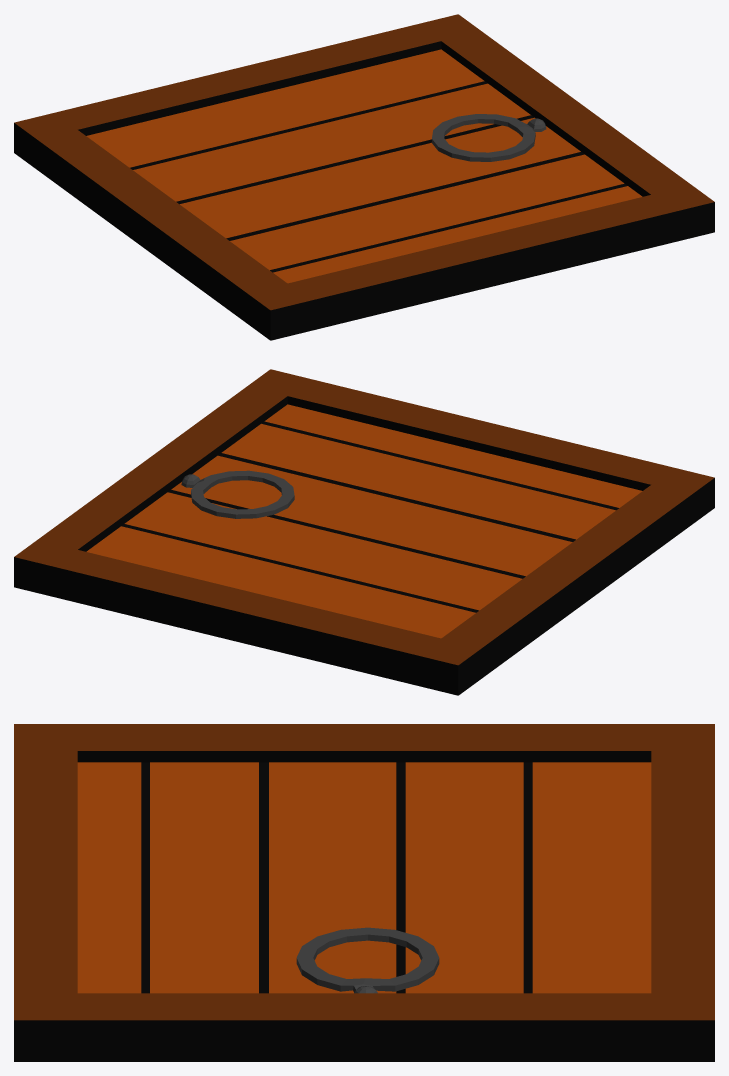
The model's file is TrapDoor.glb.
The picture shows the model from 3 angles, top to bottom: view 1: azimuth 30°, elevation 25°; view 2: azimuth 150°, elevation 25°; view 3: azimuth 270°, elevation 25°; orthographic projection. The views are drawn at different scales.
Parts seen in each view (by area): view 1: Plane; view 2: Plane; view 3: Plane.
Boxes of the visible parts, x1,y1,x2,y2 form: Plane: [14, 14, 714, 340]; Plane: [14, 369, 714, 695]; Plane: [14, 724, 714, 1061].
Bounding box in the file's own units: 2 × 0.1325 × 2.
Materials: 1 (1 with a texture image).
